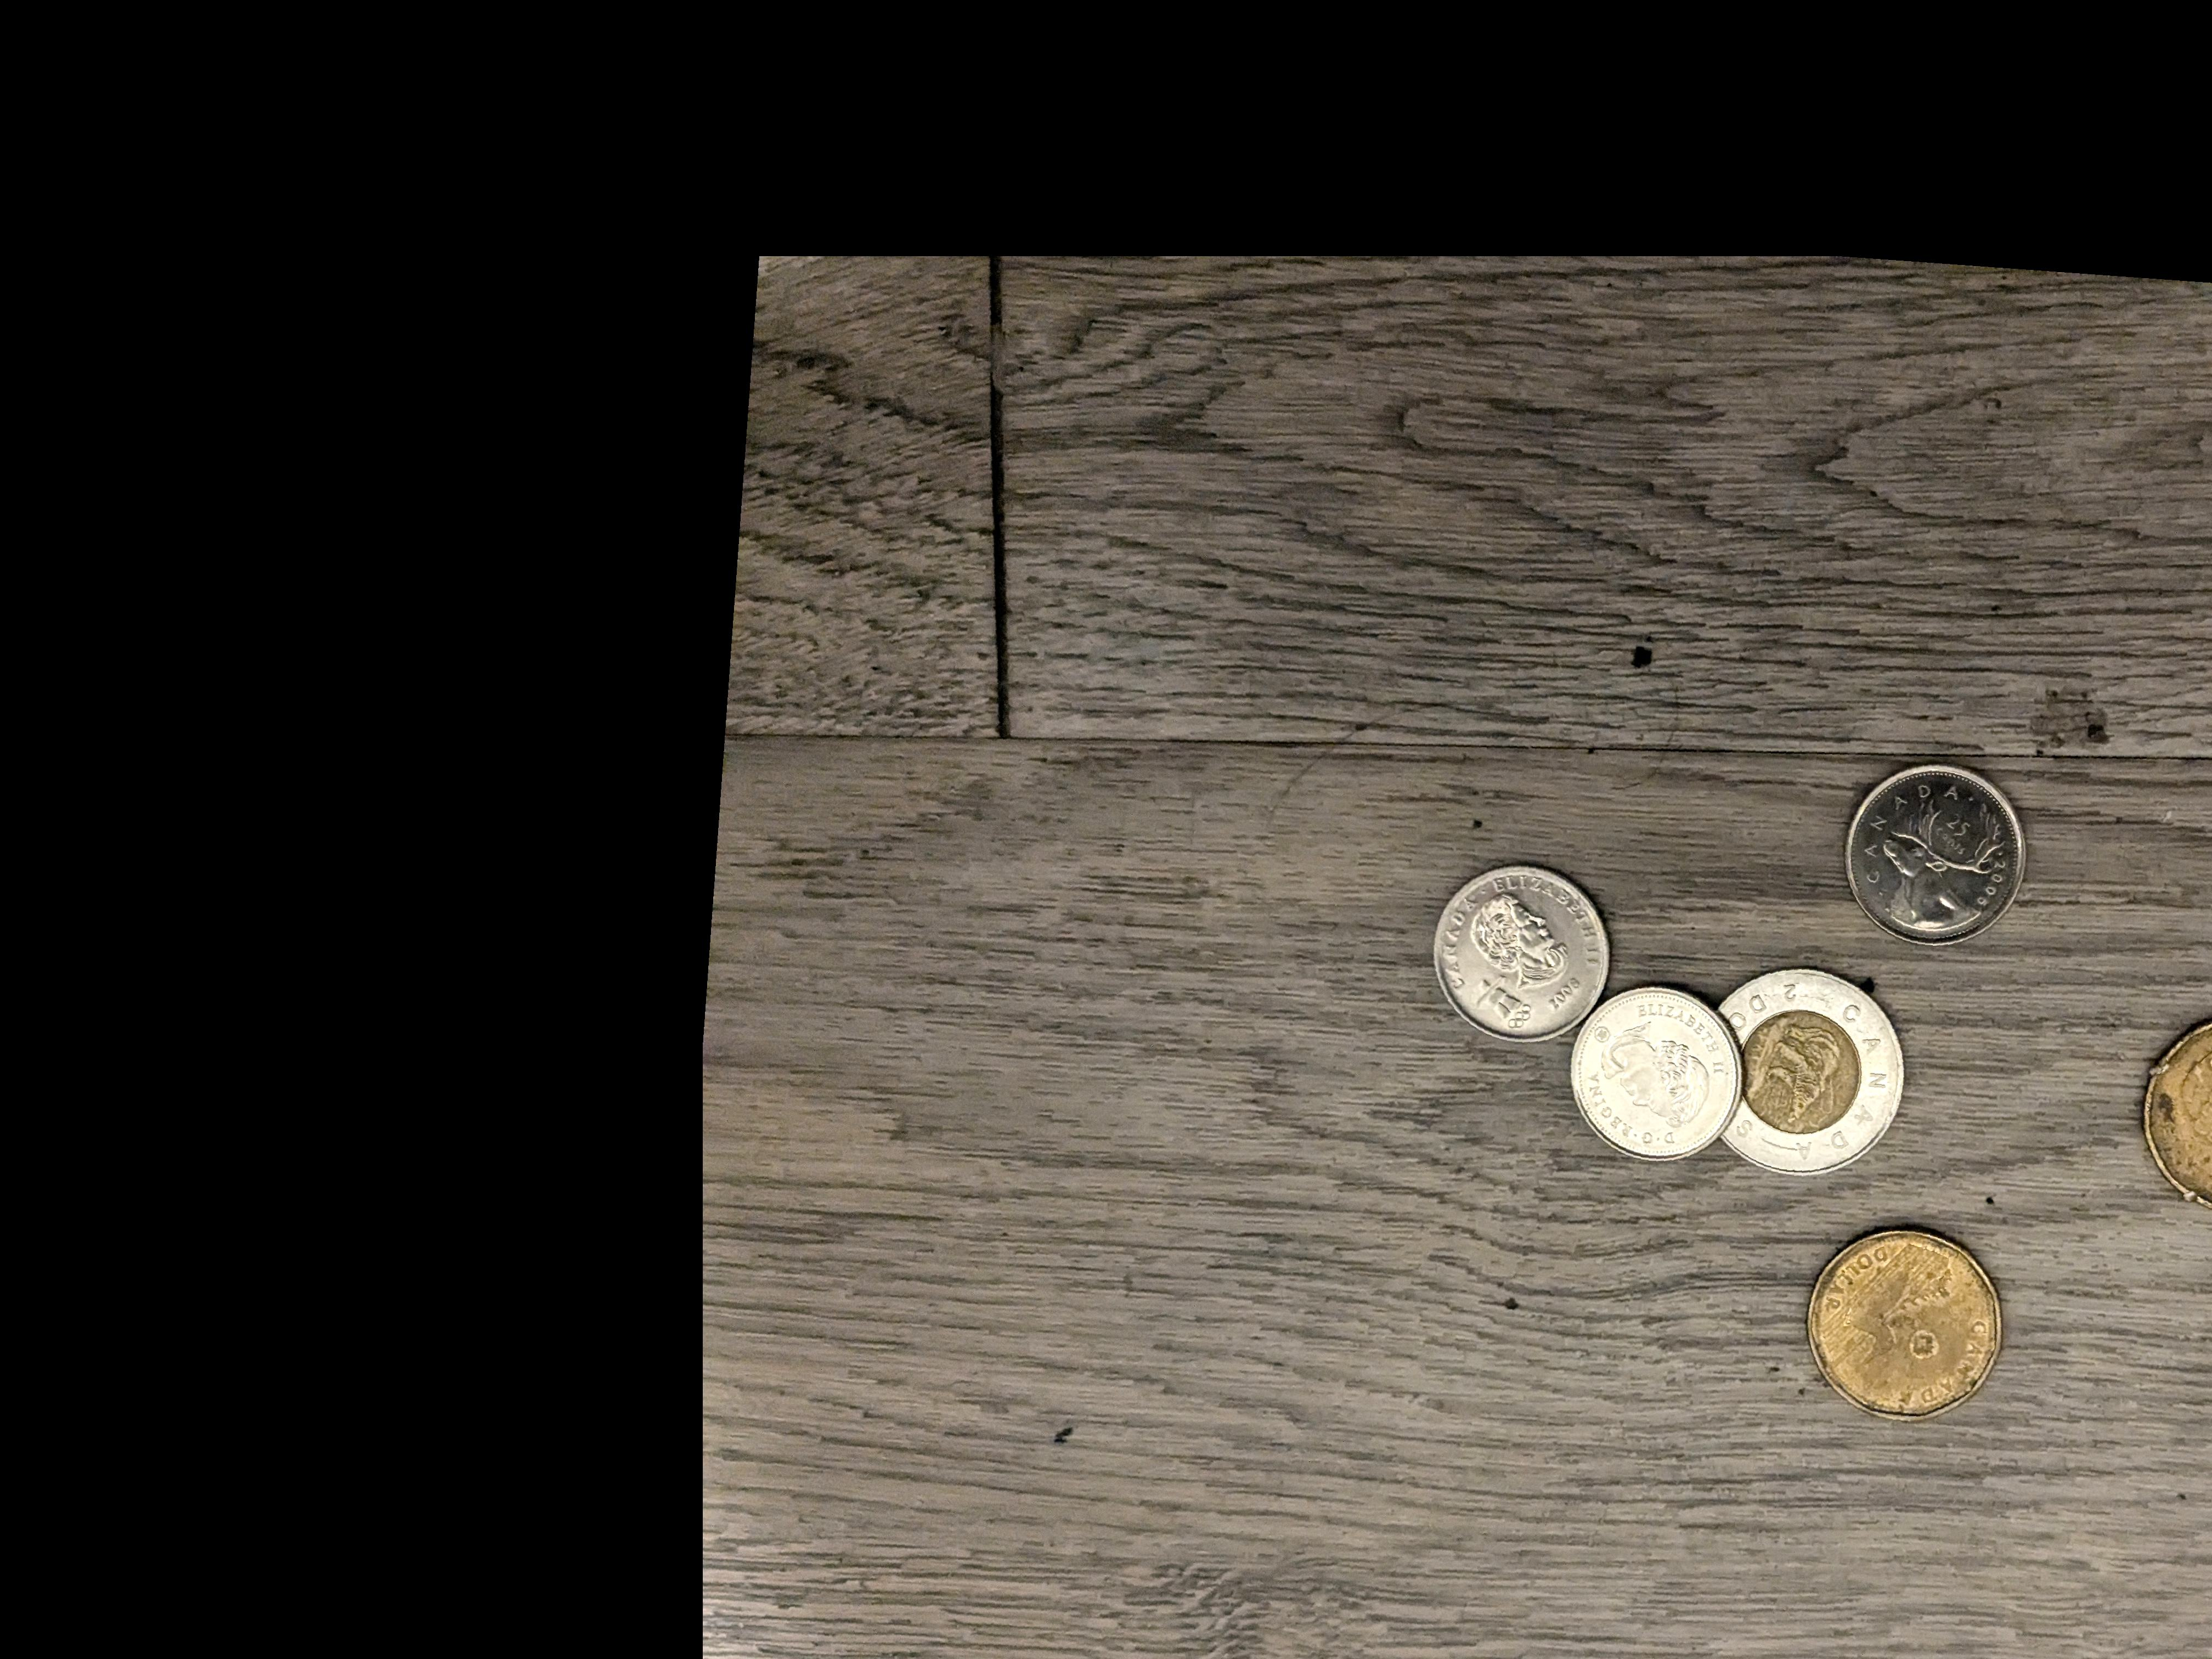loonie: (1803, 1223, 2012, 1419), (2142, 1025, 2212, 1213)
quarter: (1843, 758, 2022, 946), (1440, 863, 1611, 1047), (1578, 988, 1740, 1166)
toonie: (1723, 967, 1909, 1173)
